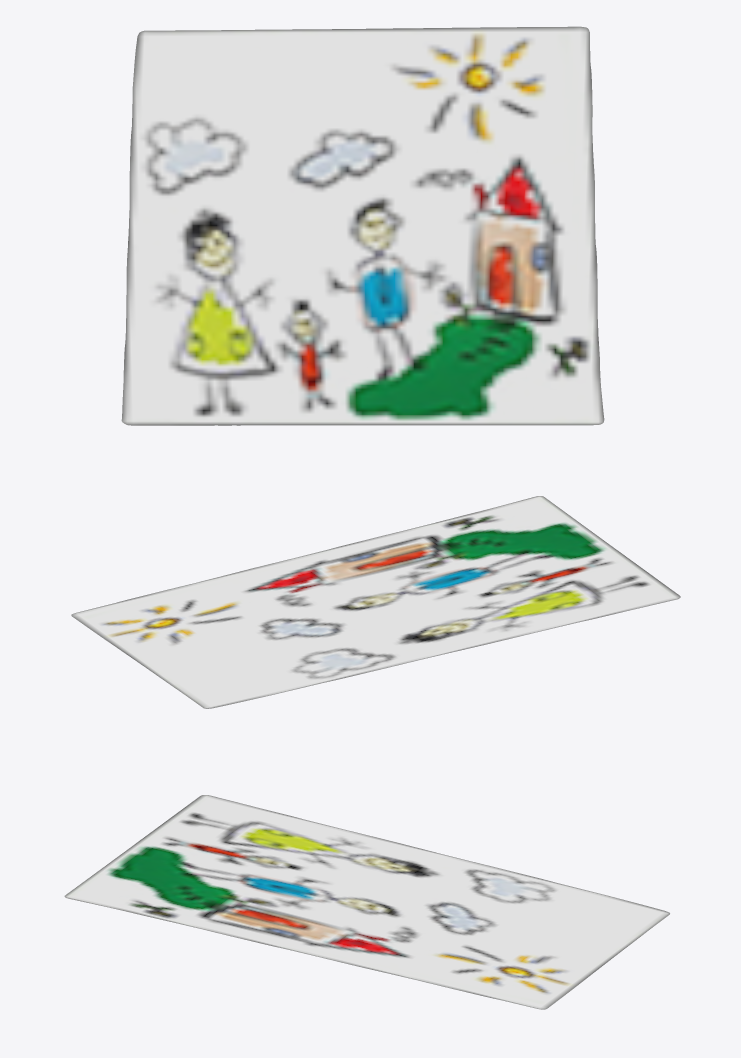
Rendered from G_NaErSenEeZiDeFangJian_tuya_01.FBX.
3 renders of one model, top to bottom at view 1: azimuth 30°, elevation 25°; view 2: azimuth 150°, elevation 25°; view 3: azimuth 270°, elevation 25°, orthographic. The views are drawn at different scales.
Visible parts, largest first — view 1: NaErSenErZideFangJian_tuya_01; view 2: NaErSenErZideFangJian_tuya_01; view 3: NaErSenErZideFangJian_tuya_01.
Part boxes in pixels (x1,y1,x2,y2): NaErSenErZideFangJian_tuya_01: (121, 26, 604, 425); NaErSenErZideFangJian_tuya_01: (71, 496, 680, 708); NaErSenErZideFangJian_tuya_01: (64, 795, 669, 1009).
Bounding box in the file's own units: 241 × 1.62e-14 × 264.
